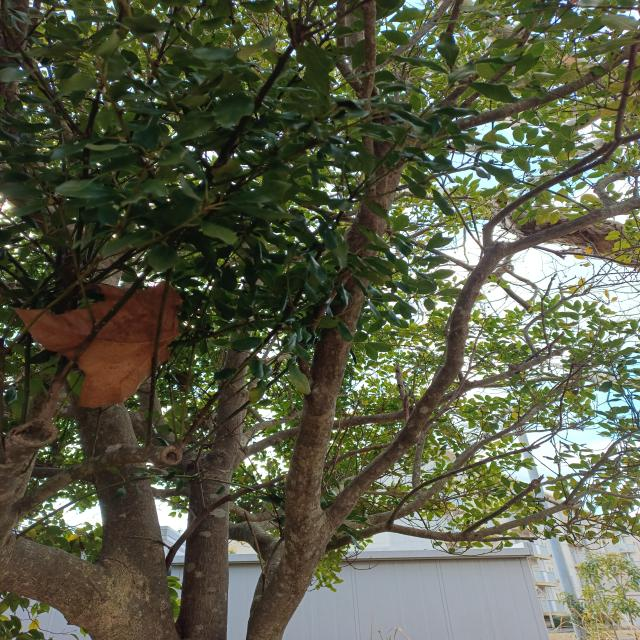Branch: (328, 195, 636, 538), (249, 102, 420, 640), (239, 345, 571, 462), (180, 271, 264, 640), (2, 420, 92, 621), (75, 405, 163, 570), (241, 409, 303, 447)
Twig: (166, 328, 481, 570), (387, 357, 573, 521), (326, 465, 638, 554), (421, 39, 639, 147), (337, 430, 553, 533), (33, 264, 151, 426), (482, 132, 640, 249), (3, 445, 184, 539), (17, 474, 261, 535), (463, 464, 640, 533), (568, 33, 639, 177), (358, 0, 376, 201), (231, 502, 282, 522), (481, 537, 537, 543)
